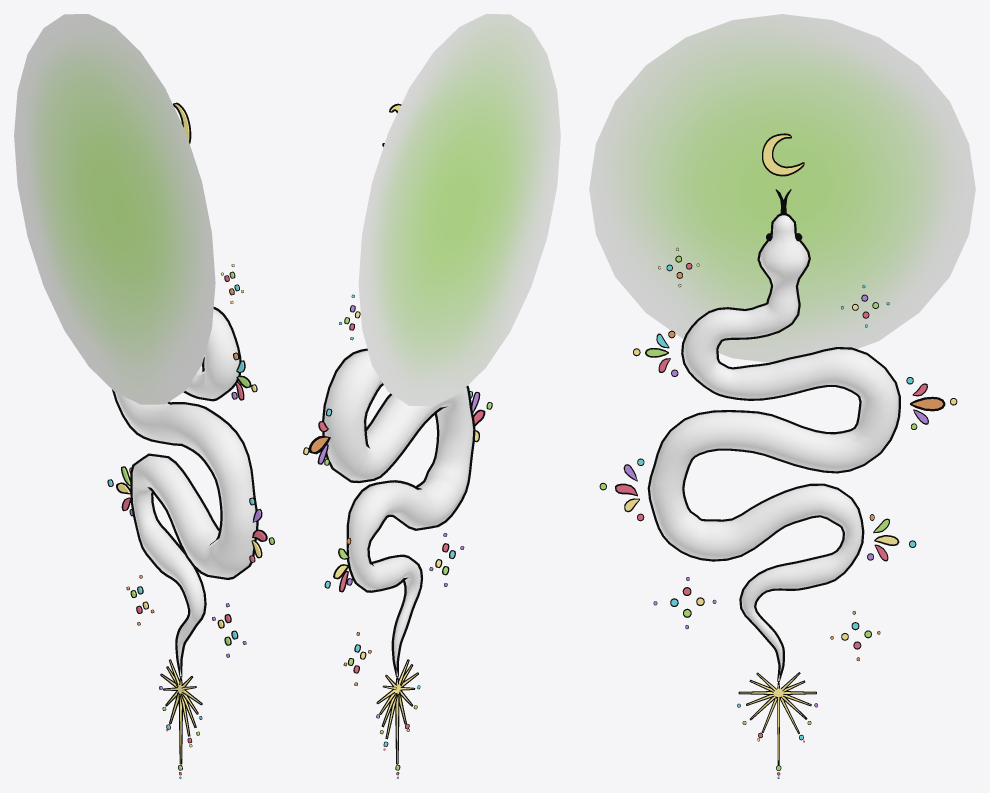
3 views of the same model, side by side, from view 1: azimuth 30°, elevation 25°; view 2: azimuth 150°, elevation 25°; view 3: azimuth 270°, elevation 25° (orthographic). The views are drawn at different scales.
Parts seen in each view (by area): view 1: Circle.001, Snake, Circle.022, Plane.013; view 2: Circle.001, Snake, Circle.022, Plane.013; view 3: Circle.001, Snake, Circle.022, Plane.013, Circle.
Part boxes in pixels (<box>): Circle.001: <box>14,14,215,404</box>; Snake: <box>112,307,258,677</box>; Circle.022: <box>107,264,274,778</box>; Plane.013: <box>160,659,202,764</box>; Circle.001: <box>358,14,560,406</box>; Snake: <box>322,348,475,677</box>; Circle.022: <box>303,294,492,778</box>; Plane.013: <box>376,659,418,764</box>; Circle.001: <box>589,14,975,362</box>; Snake: <box>647,213,900,682</box>; Circle.022: <box>599,247,957,778</box>; Plane.013: <box>738,672,816,765</box>; Circle: <box>762,133,804,176</box>.
Bounding box in the file's own units: 0.6437 × 5.34 × 2.55.
Materials: 10 (1 with a texture image).
